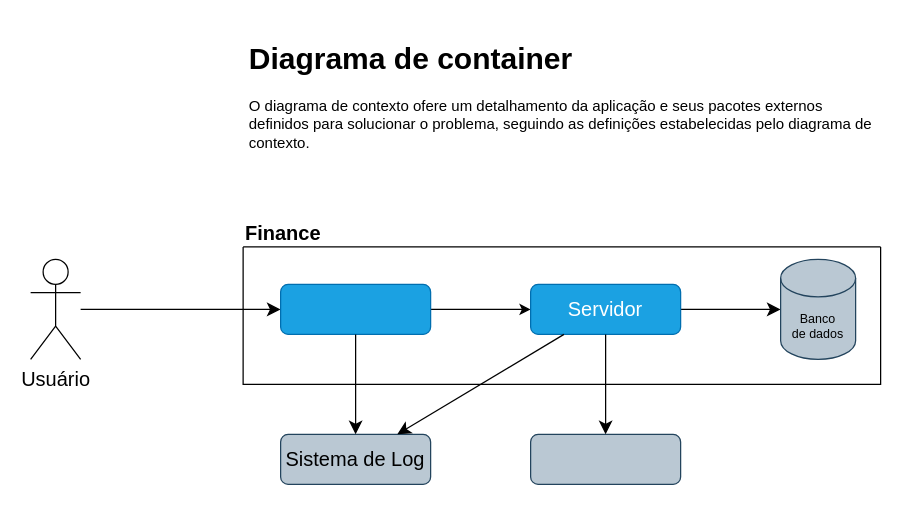
This 903x506 diagram has some shape labels left out. The shapes that lost their labels are listed below. From the top down, each one's centre as x and y in pixels, then its label:
At point 355,308: "Front-end".
At point 605,458: "Importação CSV".
